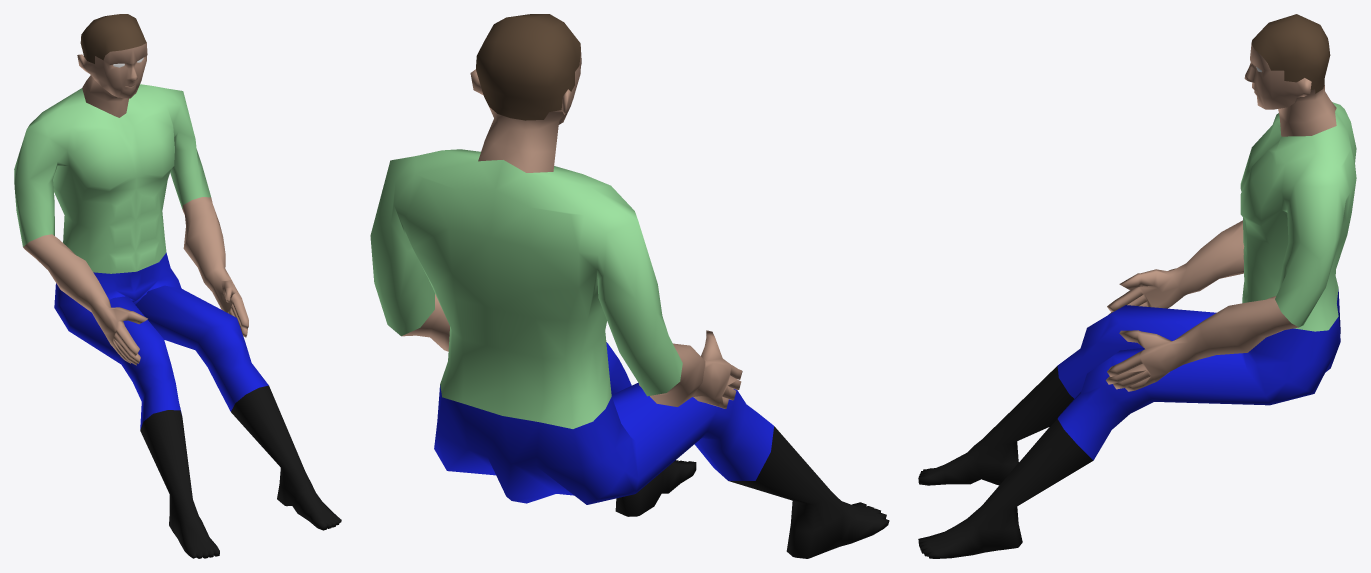
Rendered from Man_4.FBX.
3 renders of one model, left to right at view 1: azimuth 30°, elevation 25°; view 2: azimuth 150°, elevation 25°; view 3: azimuth 270°, elevation 25°, orthographic. The views are drawn at different scales.
Parts seen in each view (by area): view 1: Tshirt, Pants, Arms_Face, Boots, Hair; view 2: Tshirt, Pants, Boots, Hair, Arms_Face; view 3: Tshirt, Pants, Arms_Face, Boots, Hair.
Part boxes in pixels (box(x1,y1,x2,y2)): Tshirt: box(14, 84, 210, 273); Pants: box(54, 252, 268, 429); Arms_Face: box(23, 43, 248, 365); Boots: box(140, 385, 341, 558); Hair: box(80, 14, 146, 63); Tshirt: box(370, 149, 682, 428); Pants: box(434, 342, 773, 504); Boots: box(615, 426, 889, 558); Hair: box(476, 14, 580, 120); Arms_Face: box(402, 47, 742, 408); Tshirt: box(1240, 102, 1356, 331); Pants: box(1057, 289, 1340, 460); Arms_Face: box(1106, 43, 1336, 391); Boots: box(918, 366, 1093, 558); Hair: box(1251, 14, 1330, 93).
Size of the model in its own units: 23.7 by 50.21 by 40.15.
